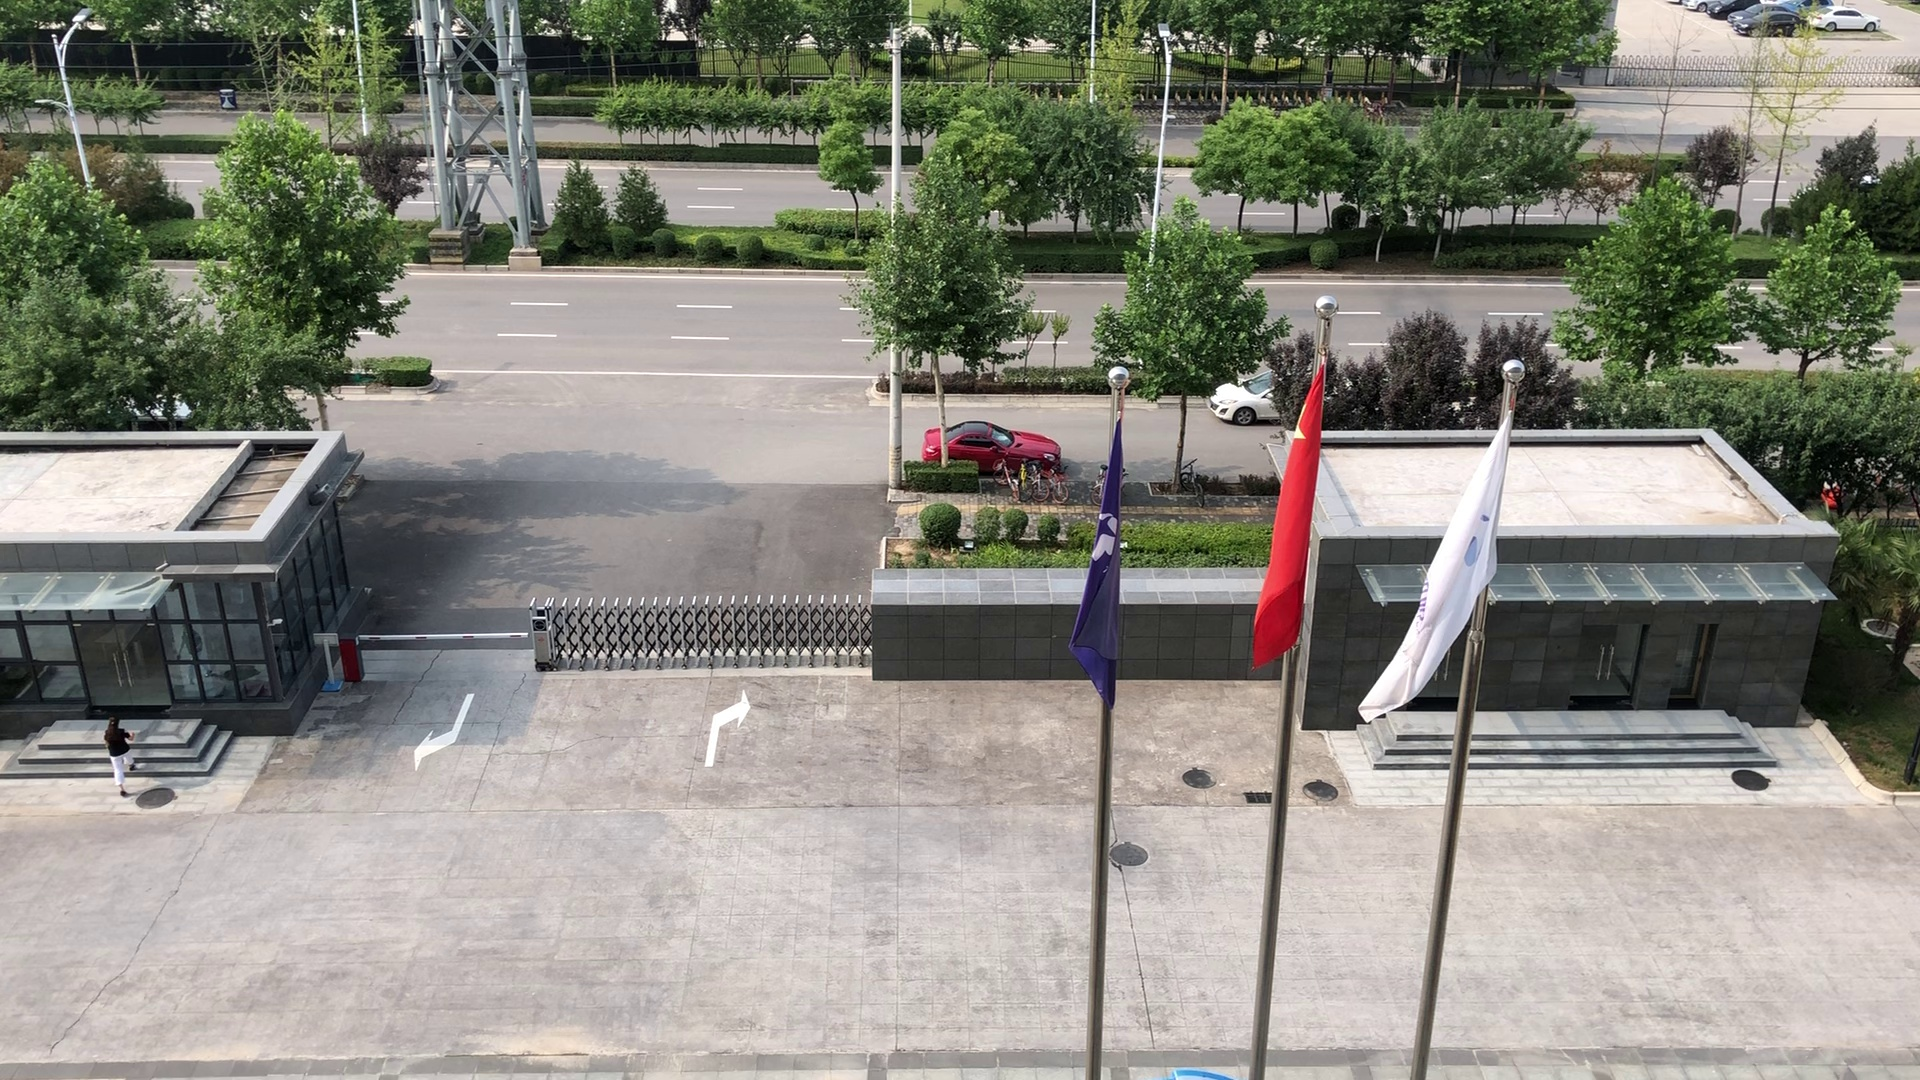car: (920, 422, 1061, 474), (1206, 363, 1282, 428), (1727, 3, 1810, 38), (1808, 5, 1883, 33)
person: (101, 712, 138, 796)
